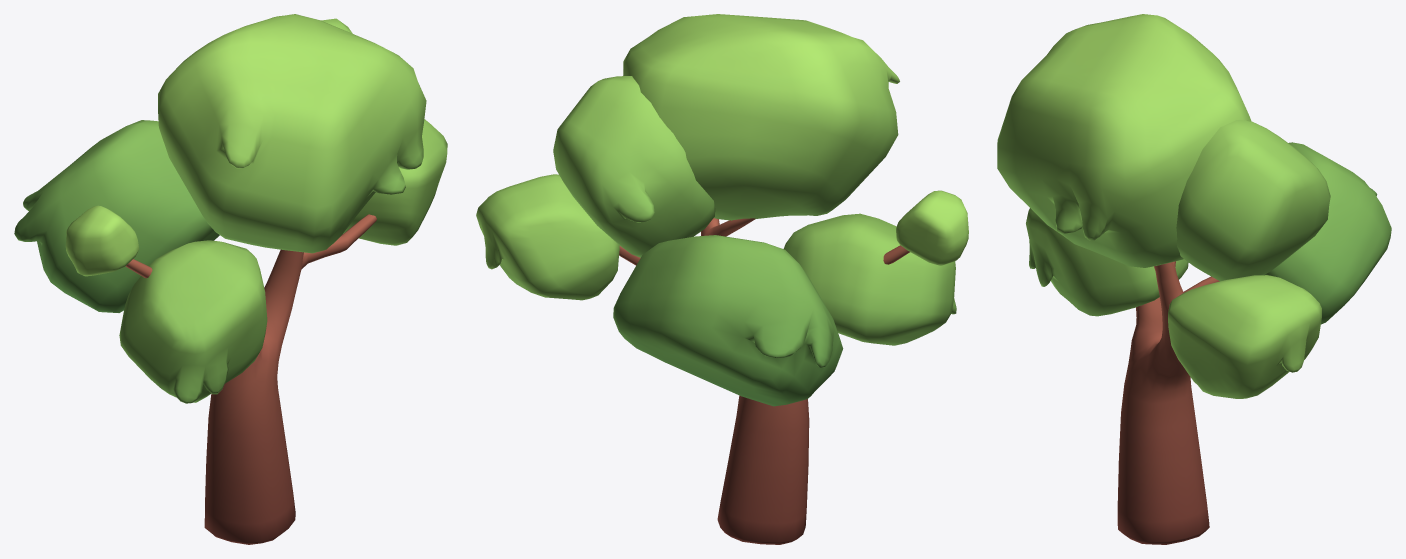
File: free_stylized_tree.glb
3 renders of one model, left to right at view 1: azimuth 30°, elevation 25°; view 2: azimuth 150°, elevation 25°; view 3: azimuth 270°, elevation 25°, orthographic.
Parts seen in each view (by area): view 1: Tree_0; view 2: Tree_0; view 3: Tree_0.
Part boxes in pixels (x1,y1,x2,y2): Tree_0: (14, 14, 447, 544); Tree_0: (476, 14, 968, 544); Tree_0: (997, 14, 1391, 544).
Bounding box in the file's own units: 4.96 × 5.49 × 3.9.
Materials: 1 (1 with a texture image).
